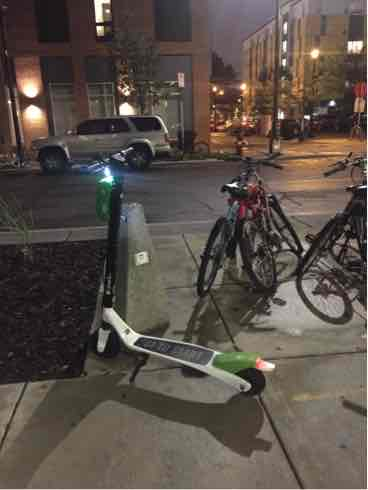scooter: (62, 139, 279, 406)
